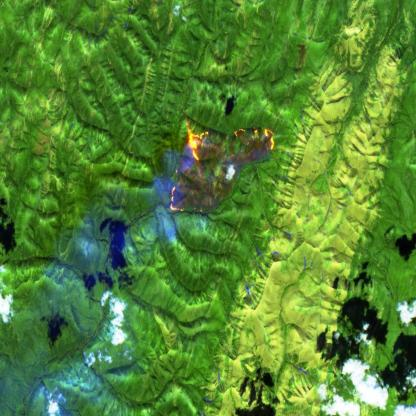fire: (177, 111, 278, 173)
